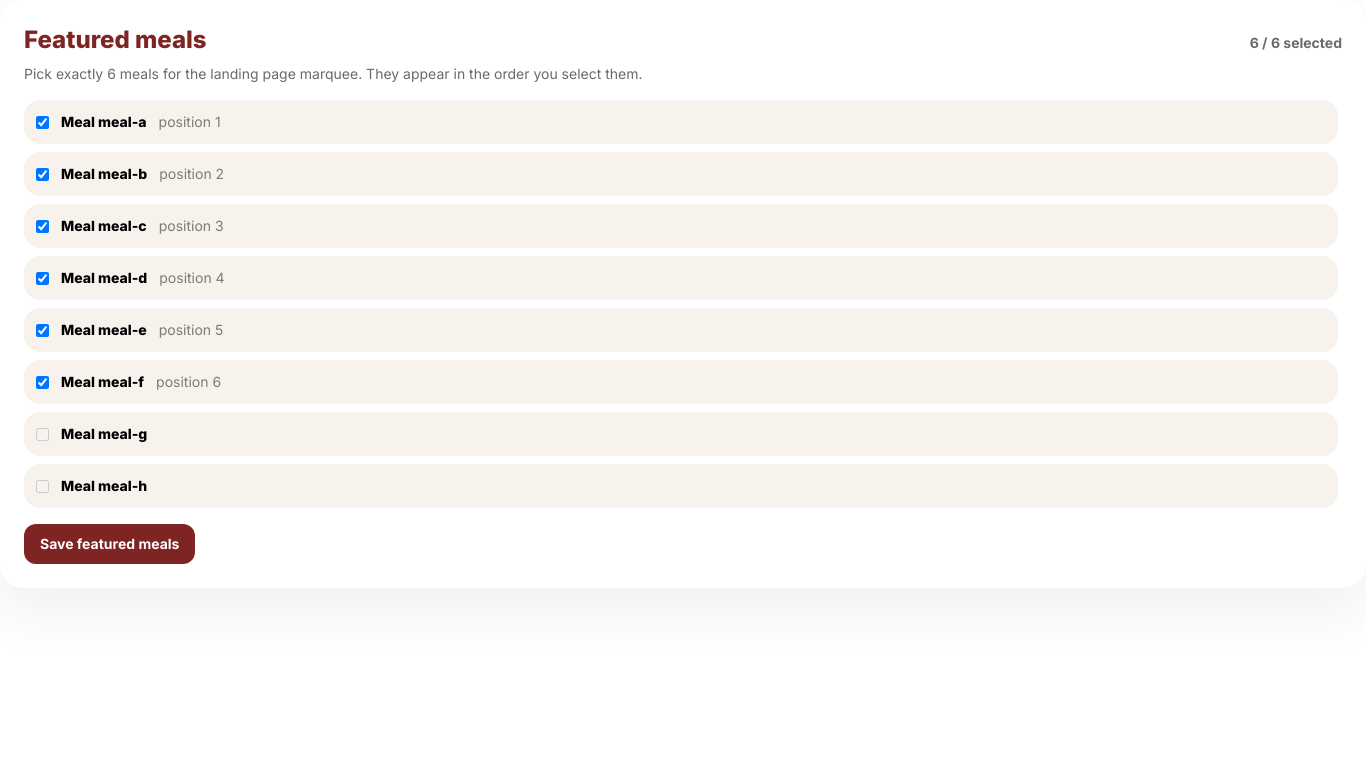
Test: FeaturedMealsPanel › prevents selecting a seventh meal and only enables save at exactly six
Expected: the button "Save featured meals" is enabled, [24,524,195,564]
Click the checkbox labelled "Meal meal-a position 1": (42, 122) [36,116,49,128]
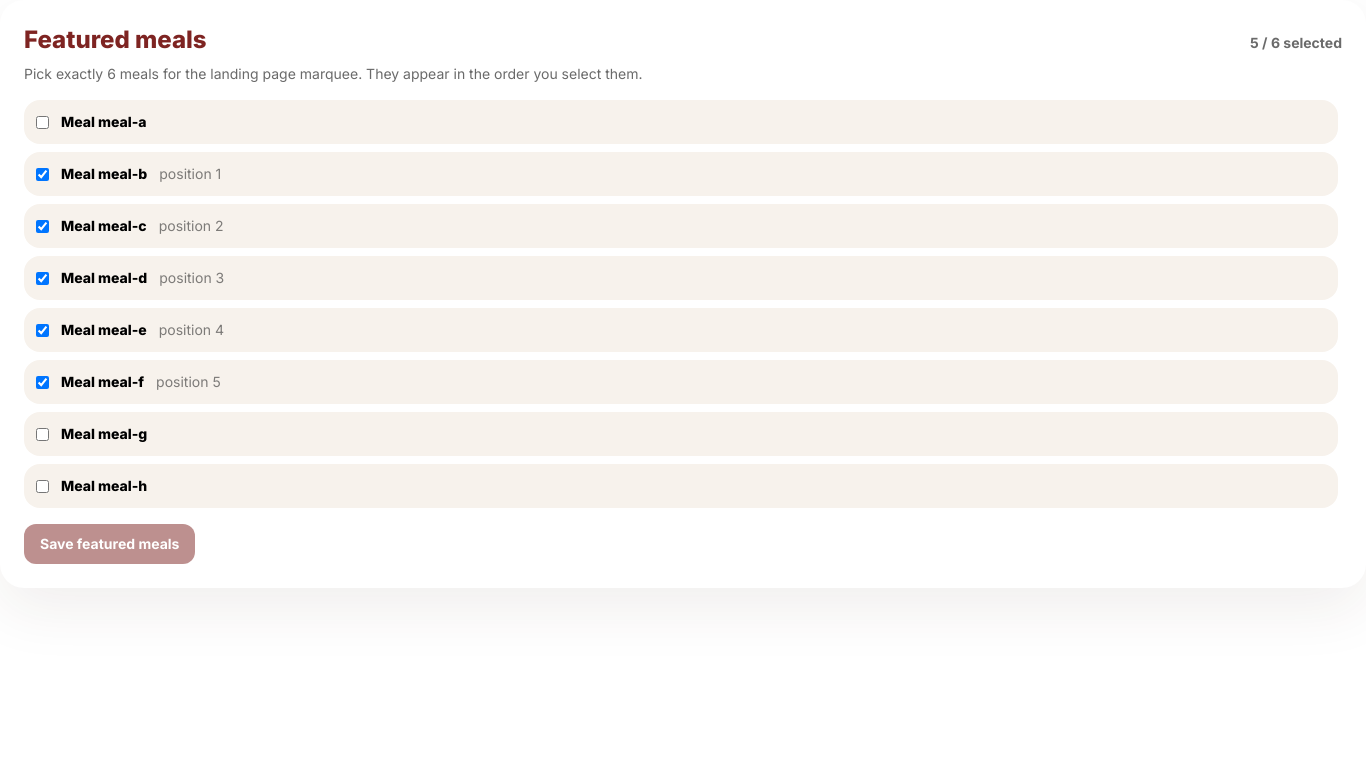
Expected: the text with test id "featured-count" reads "5 / 6 selected", [1250,33,1342,53]
Expected: the button "Save featured meals" is disabled, [24,524,195,564]
